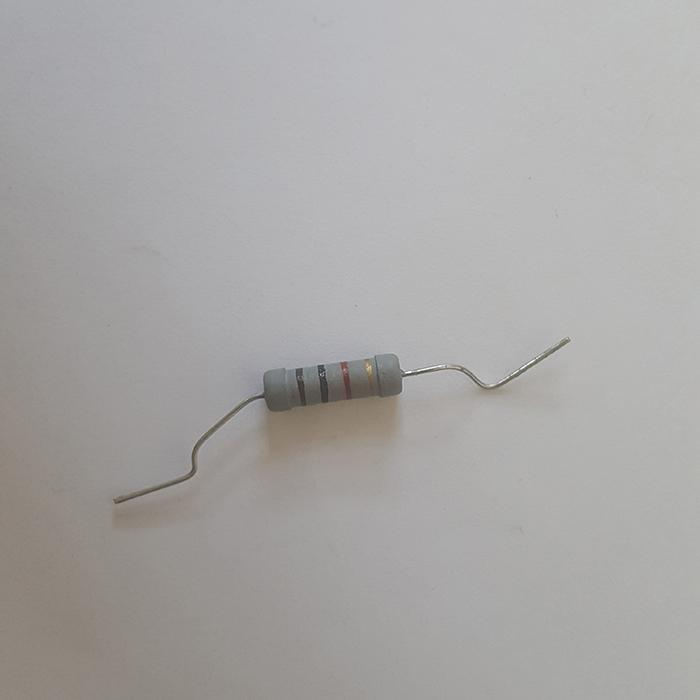resistor: (261, 351, 404, 411)
